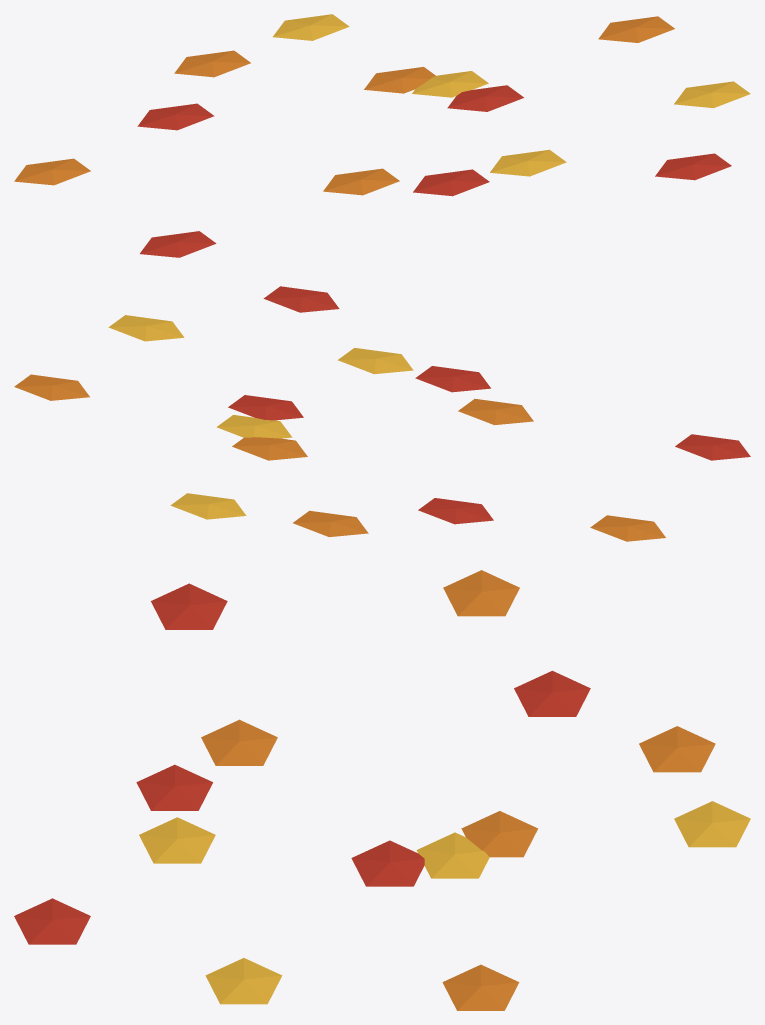
The model's file is fallen_leaves.glb.
The picture shows the model from 3 angles, top to bottom: view 1: azimuth 30°, elevation 25°; view 2: azimuth 150°, elevation 25°; view 3: azimuth 270°, elevation 25°; orthographic projection. The views are drawn at different scales.
Visible parts, largest first — view 1: fallen_leaves; view 2: fallen_leaves; view 3: fallen_leaves.
Part boxes in pixels (left/top/right/bottom): fallen_leaves: left=14, top=14, right=750, bottom=257; fallen_leaves: left=14, top=286, right=750, bottom=541; fallen_leaves: left=14, top=570, right=750, bottom=1010.
Size of the model in its own units: 2.58 by 0.02 by 1.82.
